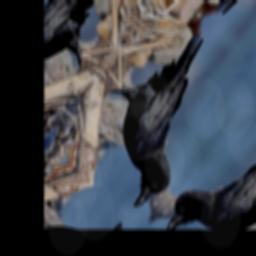Crow: (61, 4, 254, 217)
